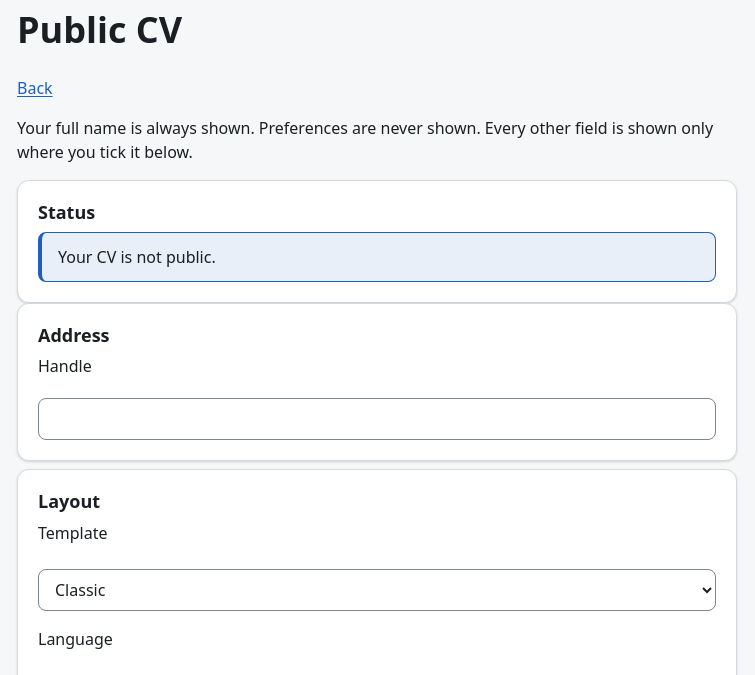
Scenario: the public CV page › checks the availability once after the user pauses for 400 ms and shows the address
Type "ada-example" into the field labelled "Handle". click: (377, 419)
box: [38, 398, 716, 440]
Wait 400 ms
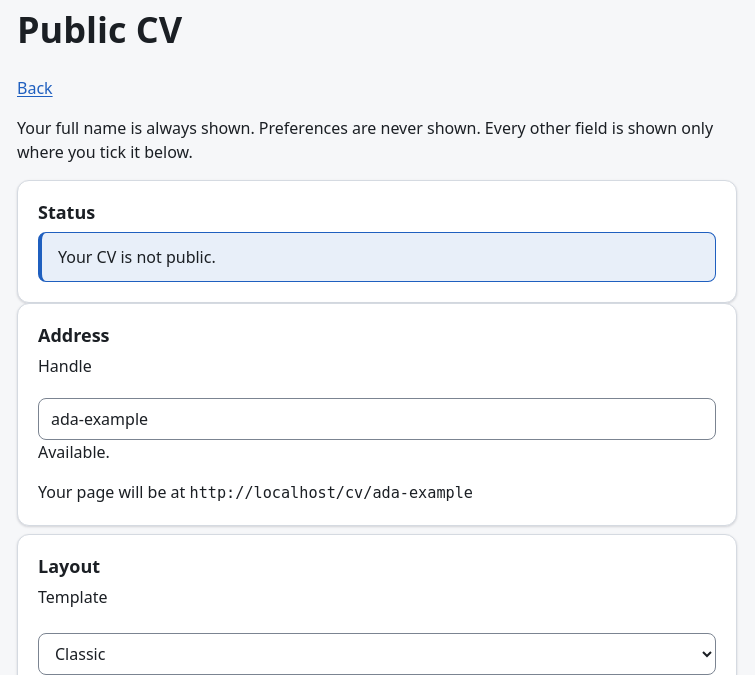
Now the text "Available." is shown, box [38, 441, 110, 463]
